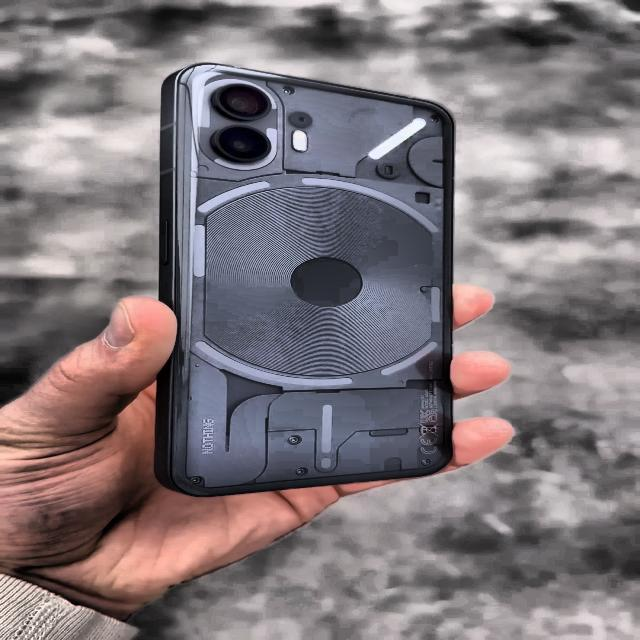Phone: (154, 59, 458, 502)
